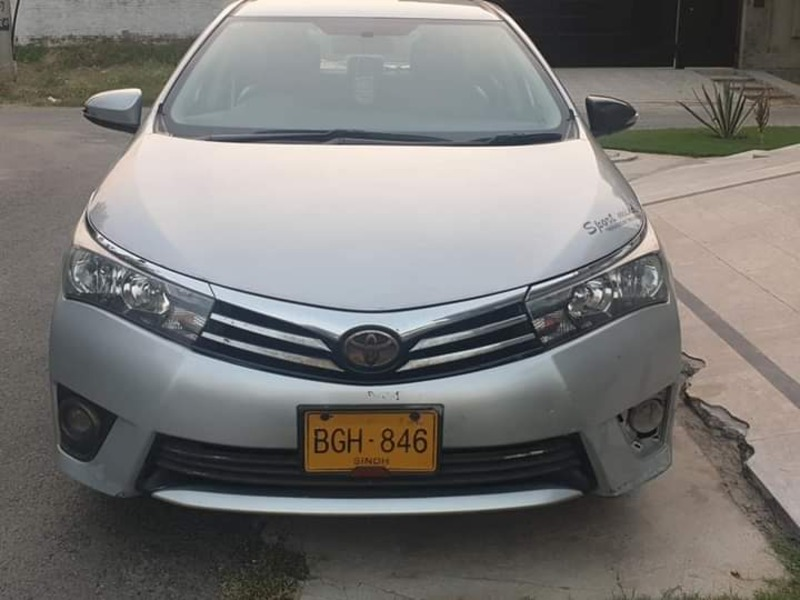License Plate: (294, 399, 448, 476)
